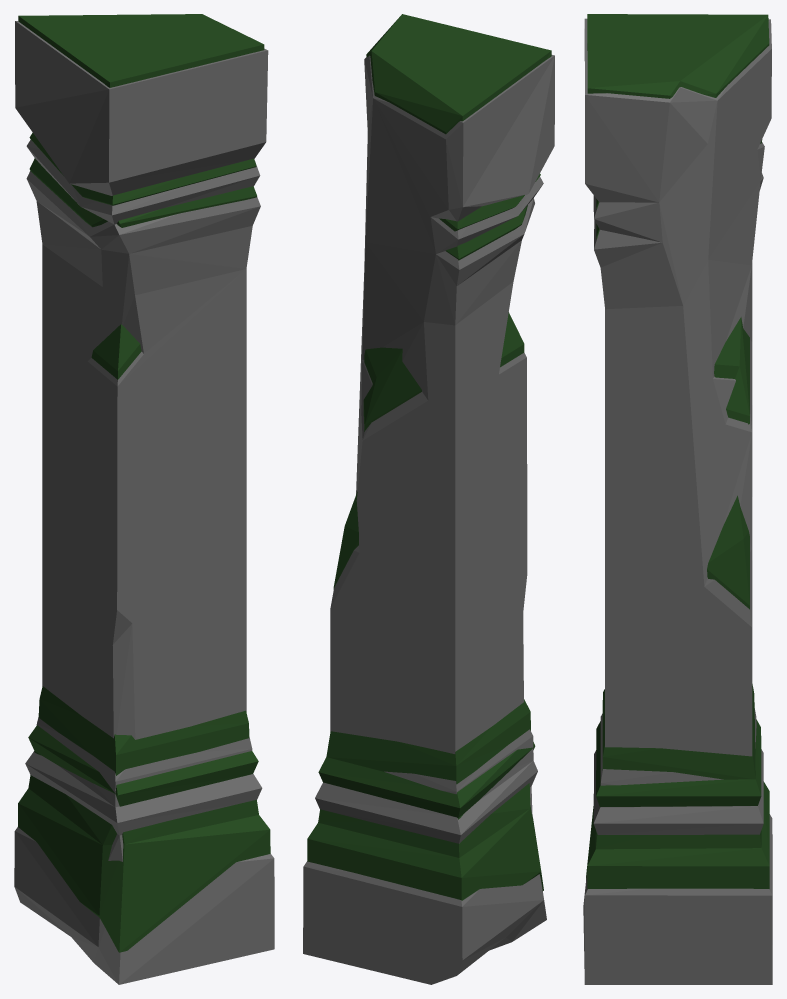
The model's file is SM_pillar_jungle_01.fbx.
3 views of the same model, side by side, from view 1: azimuth 30°, elevation 25°; view 2: azimuth 150°, elevation 25°; view 3: azimuth 270°, elevation 25° (orthographic). The views are drawn at different scales.
Visible parts, largest first — view 1: Object056; view 2: Object056; view 3: Object056.
Part boxes in pixels (<box>): Object056: <box>14,14,274,984</box>; Object056: <box>303,14,554,984</box>; Object056: <box>583,14,772,984</box>.
Size of the model in its own units: 37.47 by 189 by 36.27.
